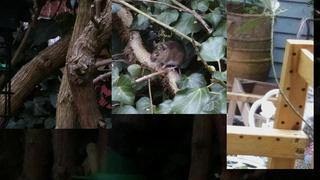mouse: (150, 40, 187, 75)
